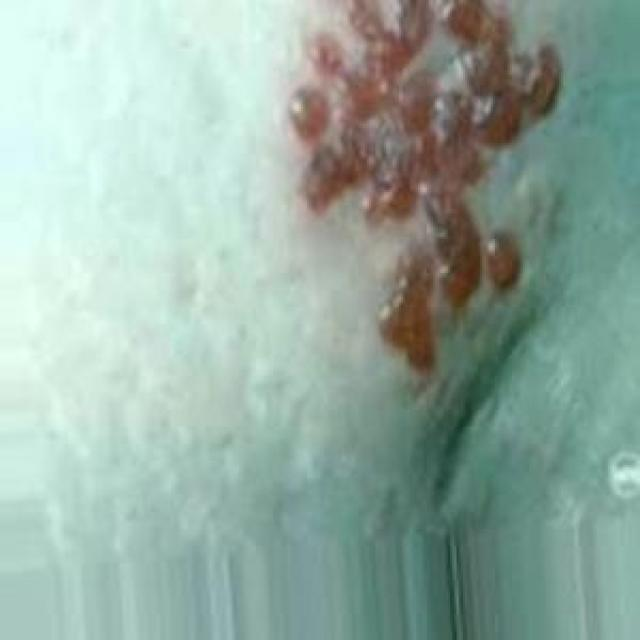Shingles: (286, 0, 564, 379)
